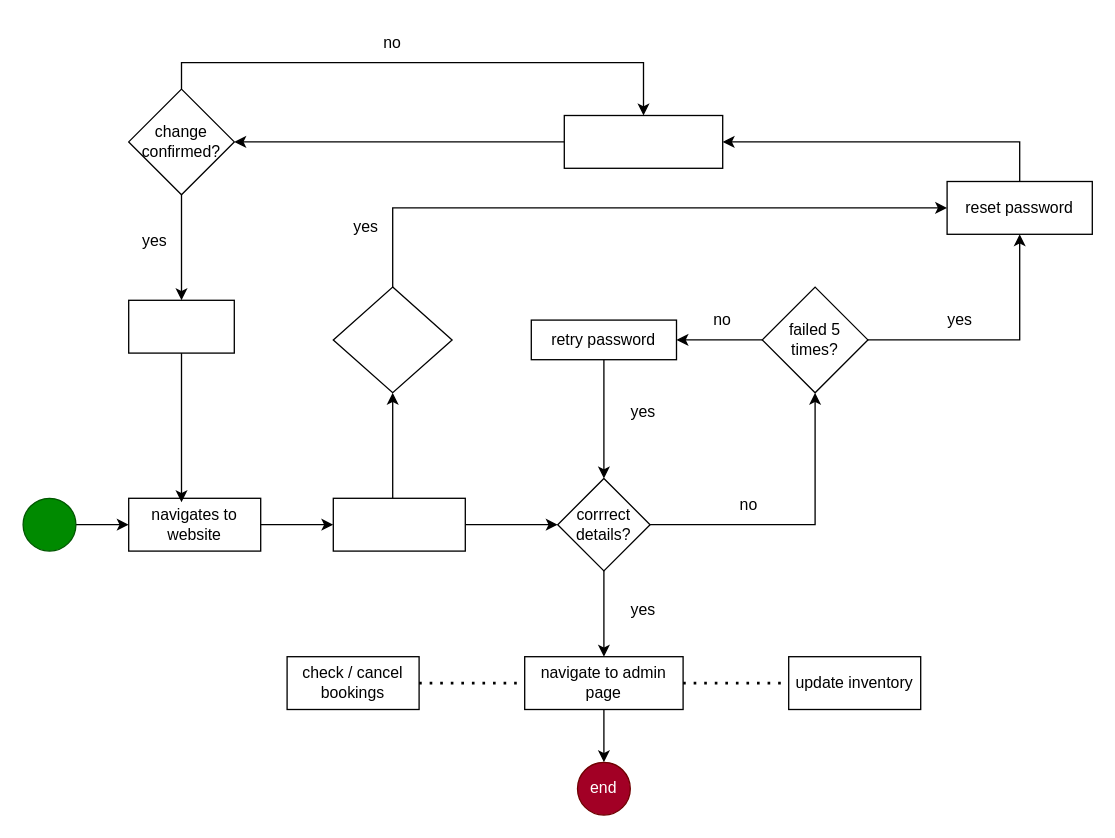
Some shapes in this 1115 by 838 pixel diagram are drawn without their labels. The shapes that lost their labels are listed below. From the top down, each one's centre as x and y in pixels, then its label:
At point 643,141: "send email to confirm pasword change".
At point 180,326: "reset pasword".
At point 392,339: "forgot password?".
At point 49,524: "start".
At point 398,524: "enters credentials".
